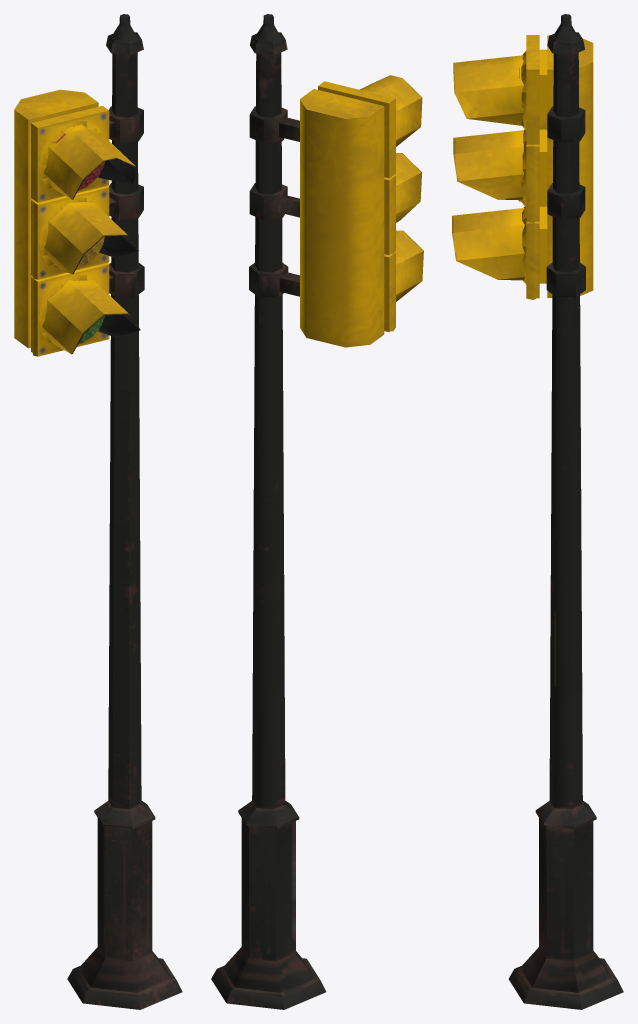
The model's file is ROD0310003.FBX.
The picture shows the model from 3 angles, left to right: view 1: azimuth 30°, elevation 25°; view 2: azimuth 150°, elevation 25°; view 3: azimuth 270°, elevation 25°; orthographic projection.
Parts seen in each view (by area): view 1: smROD0310003; view 2: smROD0310003; view 3: smROD0310003.
Part boxes in pixels (bbox=[...]): smROD0310003: bbox=[14, 14, 182, 1009]; smROD0310003: bbox=[211, 14, 423, 1009]; smROD0310003: bbox=[452, 14, 623, 1009].
Bounding box in the file's own units: 0.6066 × 3.55 × 0.5709.
Materials: 1 (1 with a texture image).
